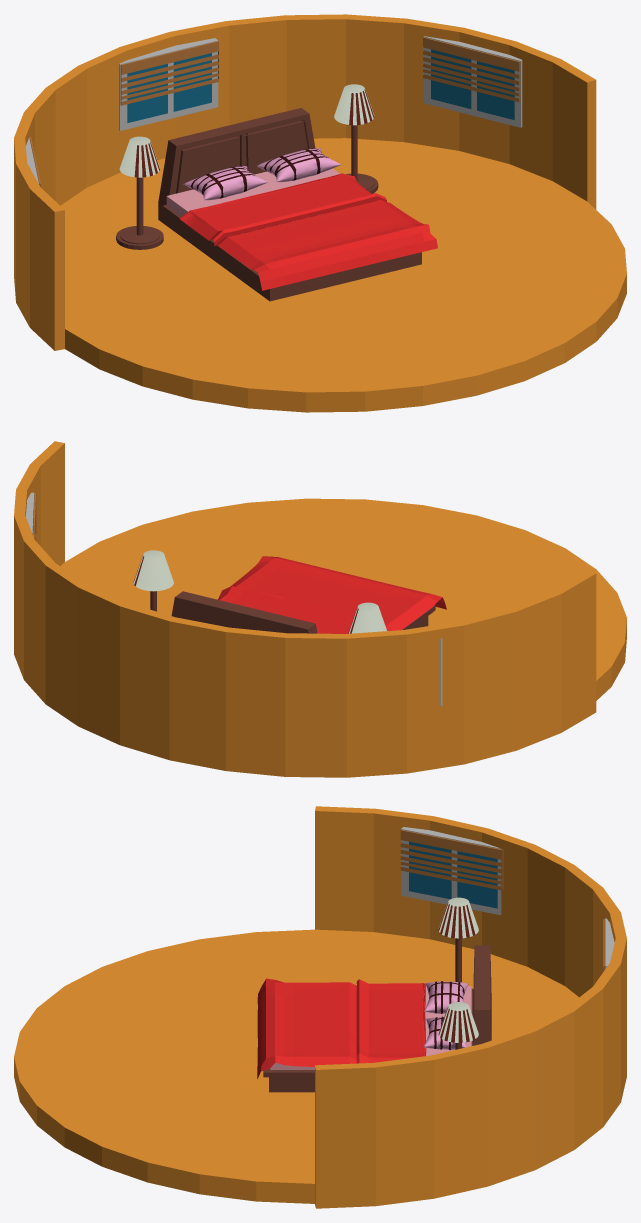
File: endgamestage.fbx
3 views of the same model, one above another, from view 1: azimuth 30°, elevation 25°; view 2: azimuth 150°, elevation 25°; view 3: azimuth 270°, elevation 25° (orthographic).
Visible parts, largest first — view 1: Cylinder, Plane, Karyola, Cube.012, Cube.003, Cube.002, Cube.001, Plane.003, Plane.002; view 2: Cylinder, Plane, Karyola, Cube.001, Cube.002; view 3: Cylinder, Plane, Cube.004, Karyola, Cube.002, Cube.001, Plane.002, Plane.003.
Boxes of the visible parts, x1=… form: Cylinder: x1=14, y1=14, x2=626, y2=412; Plane: x1=179, y1=173, x2=437, y2=290; Karyola: x1=158, y1=108, x2=421, y2=301; Cube.012: x1=119, y1=38, x2=218, y2=130; Cube.003: x1=423, y1=36, x2=522, y2=127; Cube.002: x1=116, y1=136, x2=163, y2=249; Cube.001: x1=334, y1=84, x2=378, y2=193; Plane.003: x1=257, y1=148, x2=340, y2=182; Plane.002: x1=183, y1=166, x2=267, y2=200; Cylinder: x1=14, y1=441, x2=626, y2=777; Plane: x1=218, y1=556, x2=446, y2=633; Karyola: x1=171, y1=591, x2=435, y2=633; Cube.001: x1=133, y1=550, x2=173, y2=611; Cube.002: x1=348, y1=602, x2=386, y2=633; Cylinder: x1=14, y1=806, x2=626, y2=1208; Plane: x1=257, y1=978, x2=426, y2=1078; Cube.004: x1=400, y1=827, x2=503, y2=915; Karyola: x1=263, y1=945, x2=491, y2=1092; Cube.002: x1=438, y1=897, x2=478, y2=993; Cube.001: x1=438, y1=1002, x2=478, y2=1049; Plane.002: x1=424, y1=981, x2=468, y2=1013; Plane.003: x1=423, y1=1016, x2=466, y2=1050.
Size of the model in its own units: 617 by 151 by 606.
